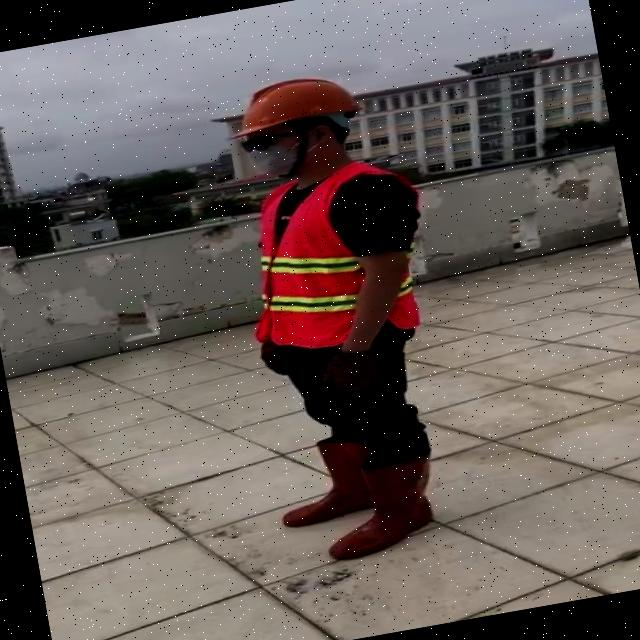boots: (318, 456, 444, 561), (267, 433, 386, 527)
helmet: (222, 65, 366, 139)
vest: (231, 155, 433, 358)
